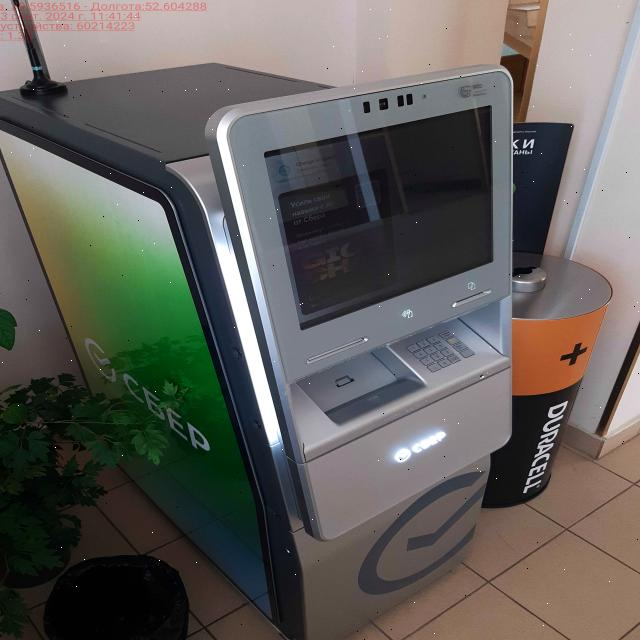bank: (0, 60, 525, 640)
